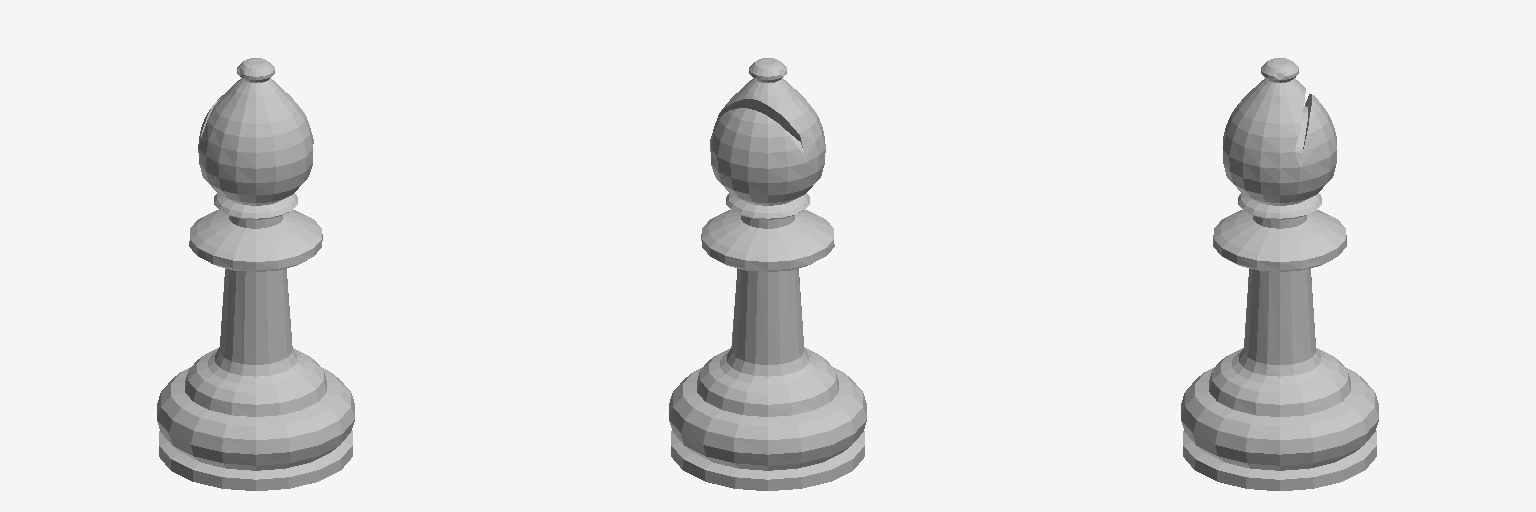
File: light_bishop.obj
3 renders of one model, left to right at view 1: azimuth 30°, elevation 25°; view 2: azimuth 150°, elevation 25°; view 3: azimuth 270°, elevation 25°, orthographic.
Parts seen in each view (by area): view 1: chess_set_light_bishop02; view 2: chess_set_light_bishop02; view 3: chess_set_light_bishop02.
Boxes of the visible parts, box(x1,y1,x2,y2) form: chess_set_light_bishop02: box(157, 58, 354, 490); chess_set_light_bishop02: box(669, 58, 866, 490); chess_set_light_bishop02: box(1181, 58, 1378, 490).
Bounding box in the file's own units: 0.0328 × 0.07 × 0.0324.